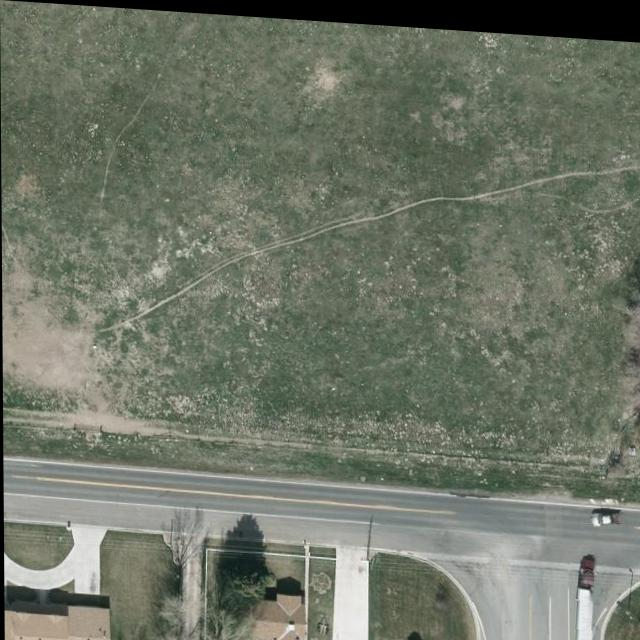vehicle: (568, 547, 601, 640), (591, 502, 623, 518)
